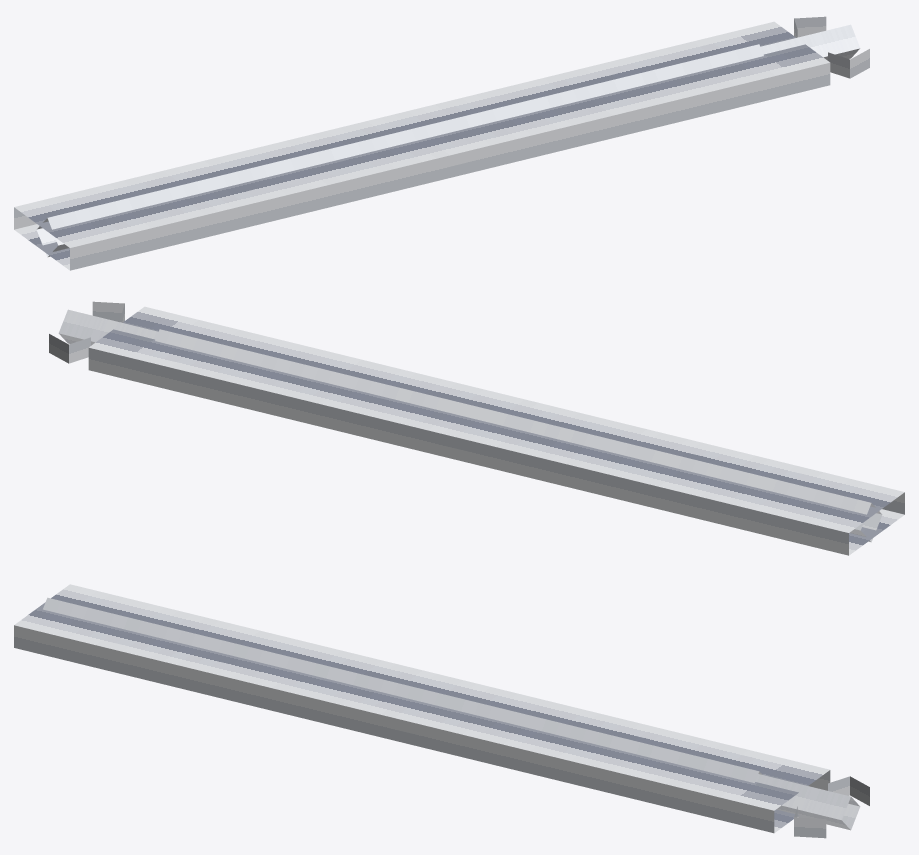
The model's file is bench_sword_4.obj.
The picture shows the model from 3 angles, top to bottom: view 1: azimuth 30°, elevation 25°; view 2: azimuth 150°, elevation 25°; view 3: azimuth 330°, elevation 25°; orthographic projection.
Parts seen in each view (by area): view 1: geometry; view 2: geometry; view 3: geometry.
Boxes of the visible parts, x1=… form: geometry: x1=14, y1=16, x2=869, y2=270; geometry: x1=49, y1=301, x2=904, y2=555; geometry: x1=14, y1=584, x2=869, y2=838.
Bounding box in the file's own units: 0.75 × 0.0328 × 0.0844.
